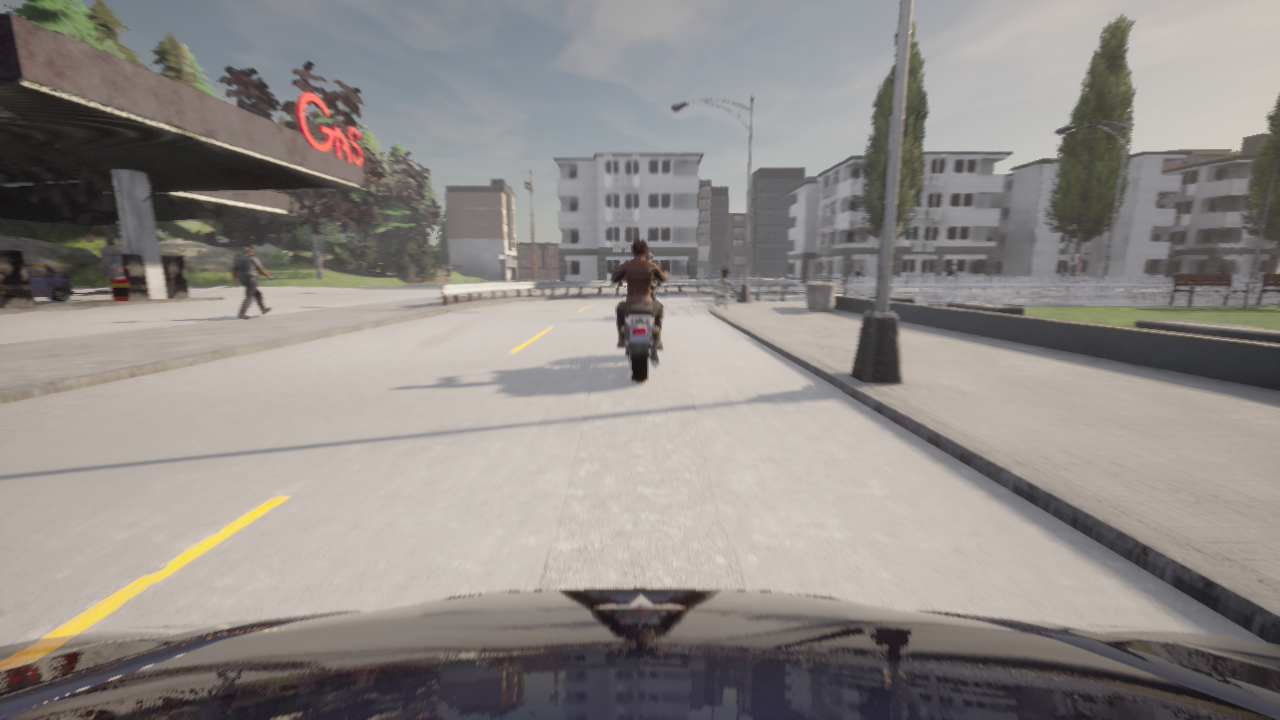cyclist: (0, 588, 1279, 719), (612, 269, 668, 382), (26, 264, 72, 301), (841, 273, 872, 296), (714, 276, 740, 300), (704, 270, 737, 279), (734, 272, 762, 279), (934, 286, 954, 295)
pedestrian: (232, 244, 273, 318), (953, 275, 964, 301), (680, 274, 683, 290)
